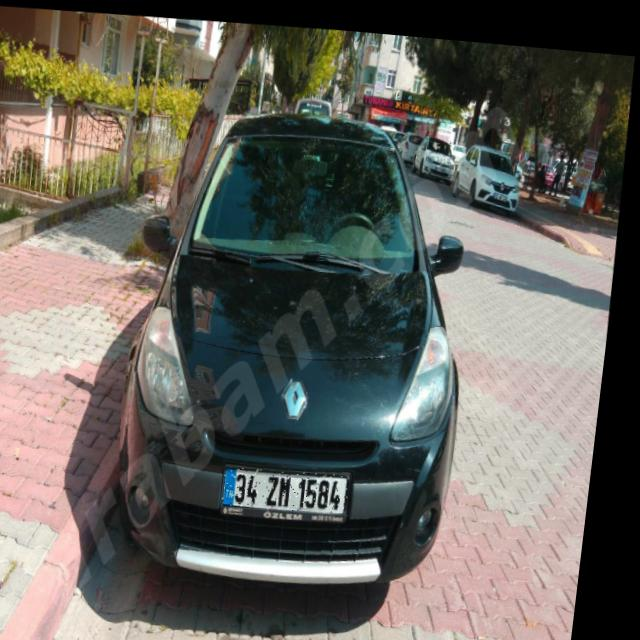license_plate: (232, 459, 361, 509)
